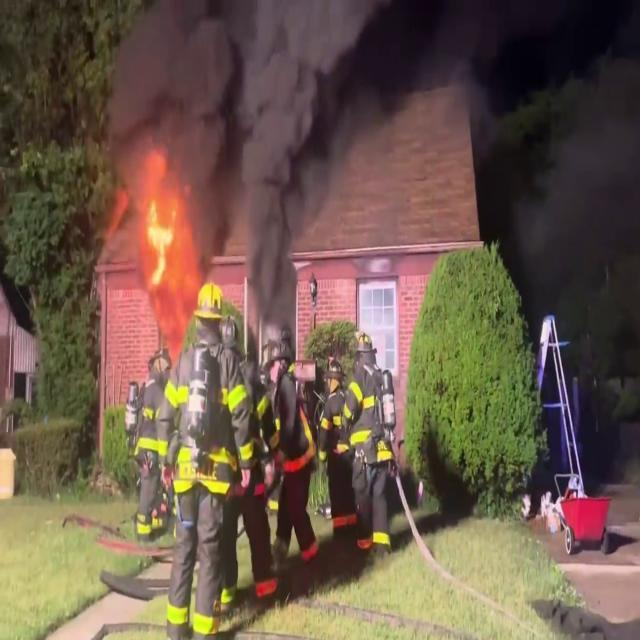Fire: (136, 168, 230, 316)
Smoke: (96, 0, 354, 266)
